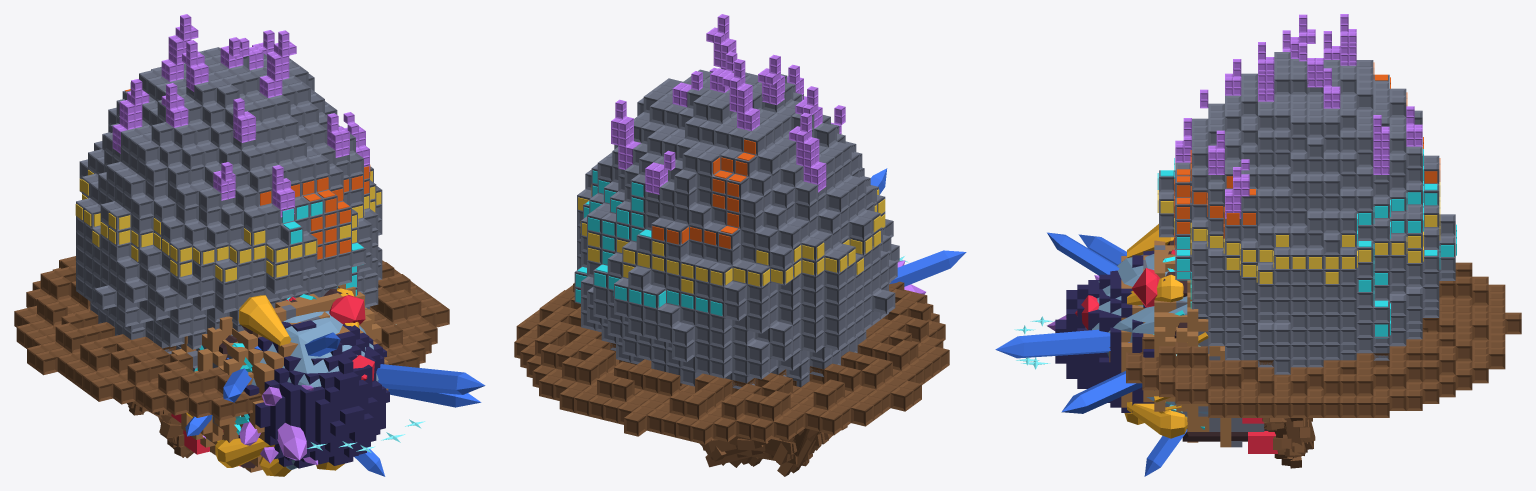
File: _PaqueteObjetos.fbx
3 renders of one model, left to right at view 1: azimuth 30°, elevation 25°; view 2: azimuth 150°, elevation 25°; view 3: azimuth 270°, elevation 25°, orthographic.
Visible parts, largest first — view 1: Roca.086, Base.086, Roca.069, Cristales.086, Roca.021, Runas, Cristales.037, Cristales.021, Grietas.086, Roca.037, Cristales.003, Cristales.053 (+1 smaller); view 2: Roca.086, Base.086, Cristales.086, Runas, Grietas2.086, Grietas.086, Cristales.037, Base.037, Base.069, Base.003, Base.021; view 3: Roca.086, Base.086, Cristales.086, Cristales.037, Roca.069, Roca.021, Runas, Grietas2.086, Cristales.021, Grietas.086, Roca.037, Cristales.053 (+3 smaller).
Boxes of the visible parts, <box> form: Roca.086: <box>76,47,382,353</box>; Base.086: <box>14,256,449,420</box>; Roca.069: <box>238,320,389,468</box>; Cristales.086: <box>112,14,369,217</box>; Roca.021: <box>171,284,388,472</box>; Runas: <box>75,170,381,281</box>; Cristales.037: <box>185,332,485,476</box>; Cristales.021: <box>215,288,359,476</box>; Grietas.086: <box>125,89,370,259</box>; Roca.037: <box>212,311,378,469</box>; Cristales.003: <box>239,385,318,465</box>; Cristales.053: <box>171,295,374,454</box>; Roca.086: <box>574,69,899,389</box>; Base.086: <box>514,281,949,444</box>; Cristales.086: <box>611,14,845,194</box>; Runas: <box>578,184,885,293</box>; Grietas2.086: <box>575,170,722,315</box>; Grietas.086: <box>652,139,755,248</box>; Cristales.037: <box>870,168,966,286</box>; Base.037: <box>703,431,821,467</box>; Base.069: <box>711,428,824,473</box>; Base.003: <box>699,429,828,465</box>; Base.021: <box>701,426,847,476</box>; Roca.086: <box>1159,52,1455,374</box>; Base.086: <box>1109,262,1521,417</box>; Cristales.086: <box>1175,14,1422,218</box>; Cristales.037: <box>995,232,1187,476</box>; Roca.069: <box>1055,250,1154,412</box>; Roca.021: <box>1121,240,1231,447</box>; Runas: <box>1157,182,1440,283</box>; Grietas2.086: <box>1157,149,1456,338</box>; Cristales.021: <box>1124,224,1187,438</box>; Grietas.086: <box>1174,62,1440,247</box>; Roca.037: <box>1085,254,1208,414</box>; Cristales.053: <box>1075,268,1277,453</box>.
Bounding box in the file's own units: 700 × 800 × 894.
